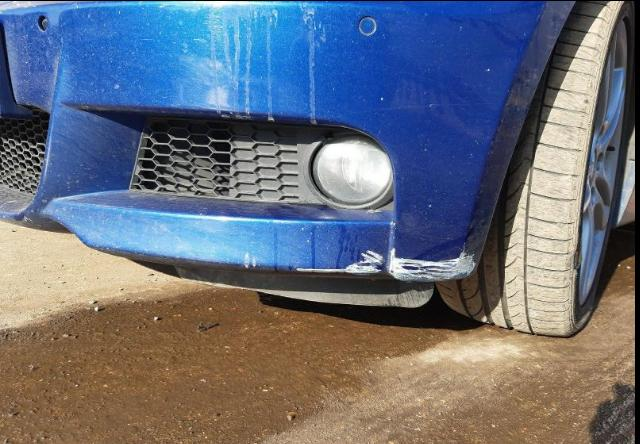Front-bumper: (0, 0, 576, 308)
Front-door: (625, 116, 636, 160)
Front-wheel: (436, 1, 634, 337)
Rocker-panel: (613, 160, 636, 228)
